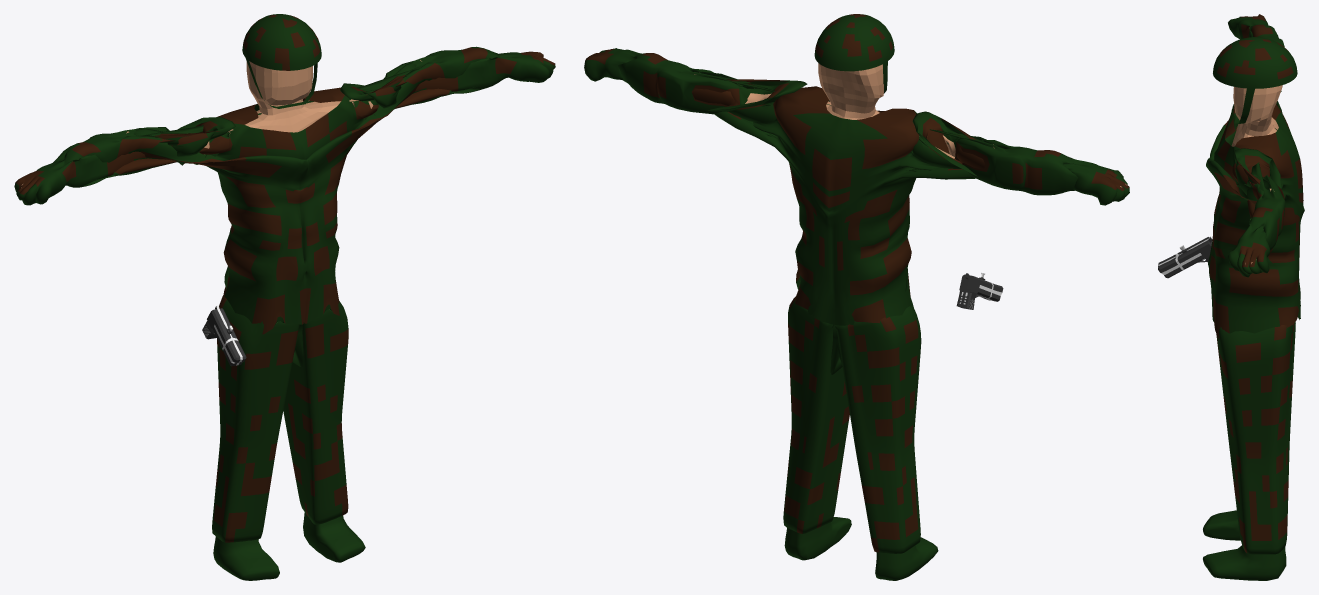
File: tower_budoucnost.fbx
The picture shows the model from 3 angles, left to right: view 1: azimuth 30°, elevation 25°; view 2: azimuth 150°, elevation 25°; view 3: azimuth 270°, elevation 25°; orthographic projection. The views are drawn at different scales.
Parts seen in each view (by area): view 1: kabat, kalhoty, telo, boty, Sphere.001, pistol; view 2: kabat, kalhoty, Sphere.001, boty, telo, pistol; view 3: kabat, kalhoty, Sphere.001, boty, telo, pistol.
Part boxes in pixels (box(x1,y1,x2,y2)): kabat: box(14, 46, 555, 334); kalhoty: box(212, 294, 348, 542); telo: box(228, 61, 358, 134); boty: box(213, 512, 365, 580); Sphere.001: box(242, 14, 321, 108); pistol: box(202, 305, 246, 366); kabat: box(584, 48, 1129, 325); kalhoty: box(783, 296, 921, 553); Sphere.001: box(814, 14, 894, 93); boty: box(784, 517, 938, 580); telo: box(818, 63, 883, 119); pistol: box(956, 273, 1003, 309); kabat: box(1206, 14, 1304, 338); kalhoty: box(1216, 322, 1295, 554); Sphere.001: box(1213, 37, 1297, 123); boty: box(1203, 510, 1286, 580); telo: box(1231, 85, 1282, 146); pistol: box(1158, 236, 1212, 278).
Bounding box in the file's own units: 362 × 348 × 89.65.
